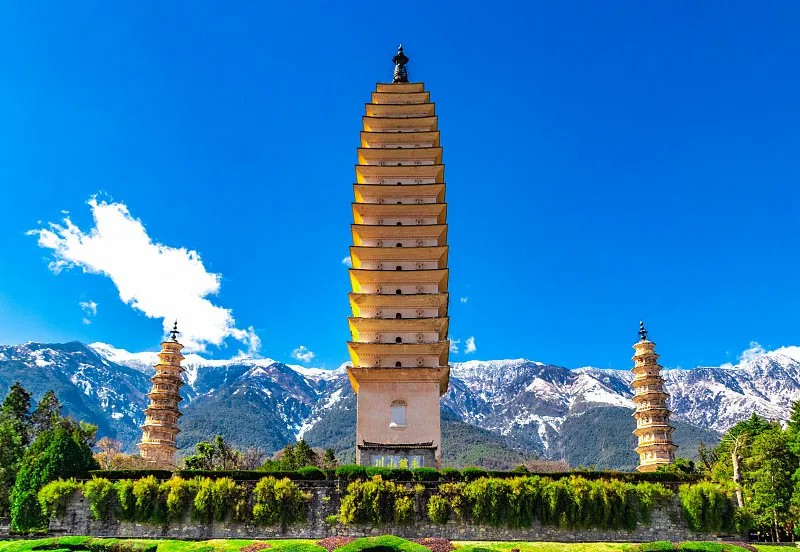ThreePagoda: (345, 44, 449, 469)
